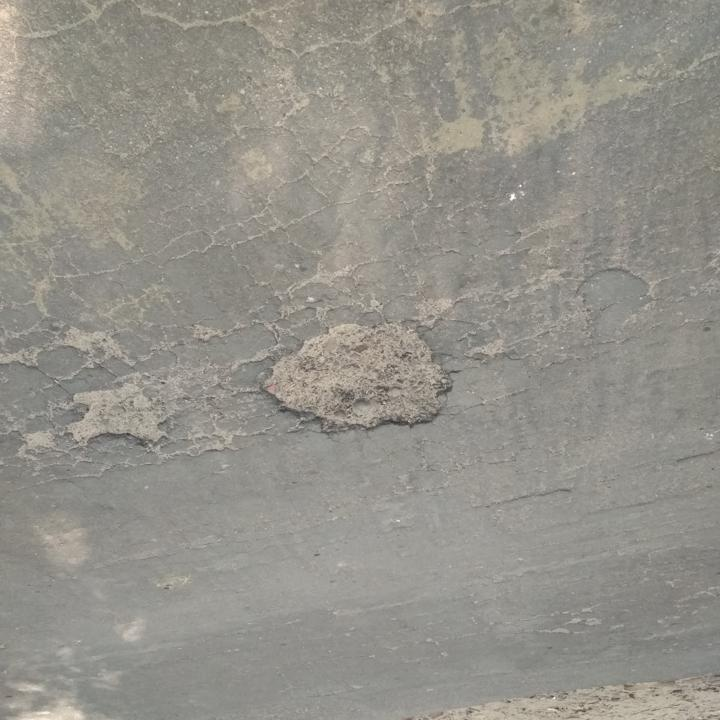pothole: (256, 318, 454, 437), (60, 382, 171, 453)
